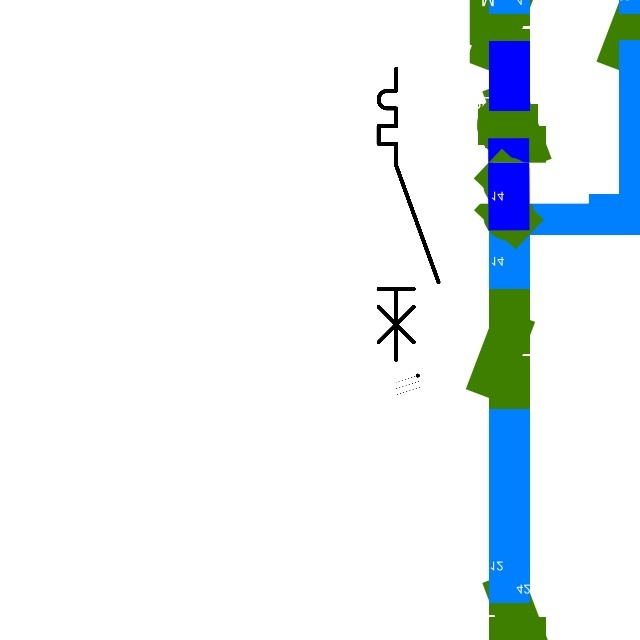interruptor_termomagnetico: (371, 61, 446, 367)
